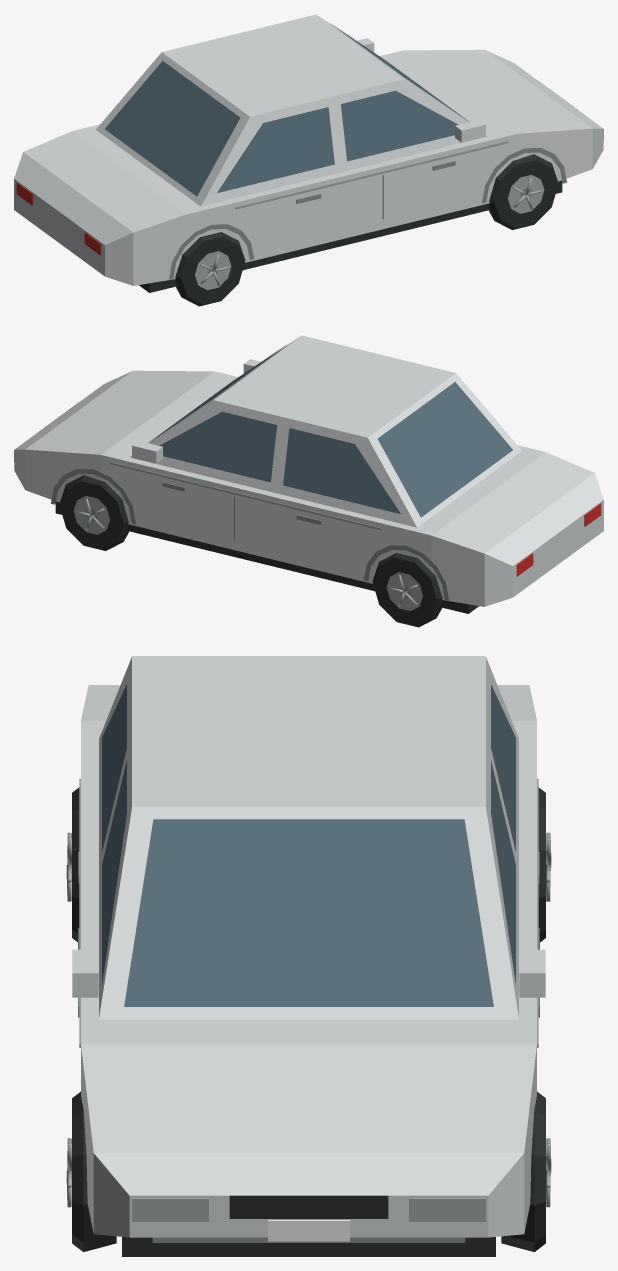
The model's file is SM_MPR3_Car_0.fbx.
3 views of the same model, one above another, from view 1: azimuth 30°, elevation 25°; view 2: azimuth 150°, elevation 25°; view 3: azimuth 270°, elevation 25° (orthographic). The views are drawn at different scales.
Parts seen in each view (by area): view 1: SM_MPR3_Car_0; view 2: SM_MPR3_Car_0; view 3: SM_MPR3_Car_0.
Part boxes in pixels (x1,y1,x2,y2): SM_MPR3_Car_0: (14,14,603,306); SM_MPR3_Car_0: (14,335,603,627); SM_MPR3_Car_0: (66,656,551,1256).
Bounding box in the file's own units: 452 × 189 × 142.
